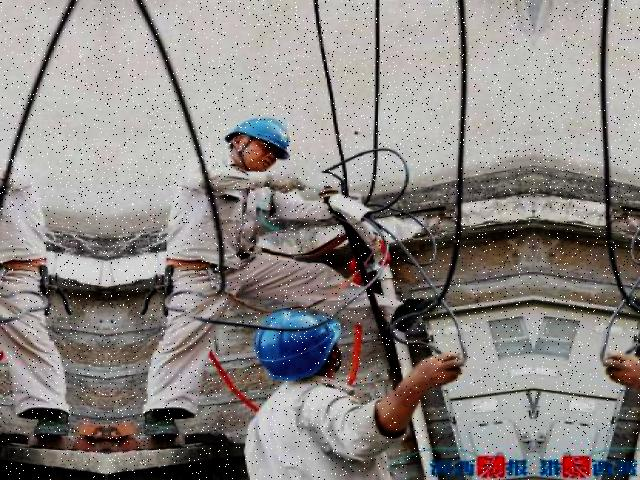Helmet: (249, 302, 341, 390), (218, 111, 295, 164)
